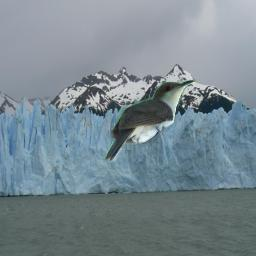Cuckoo: (103, 79, 197, 163)
